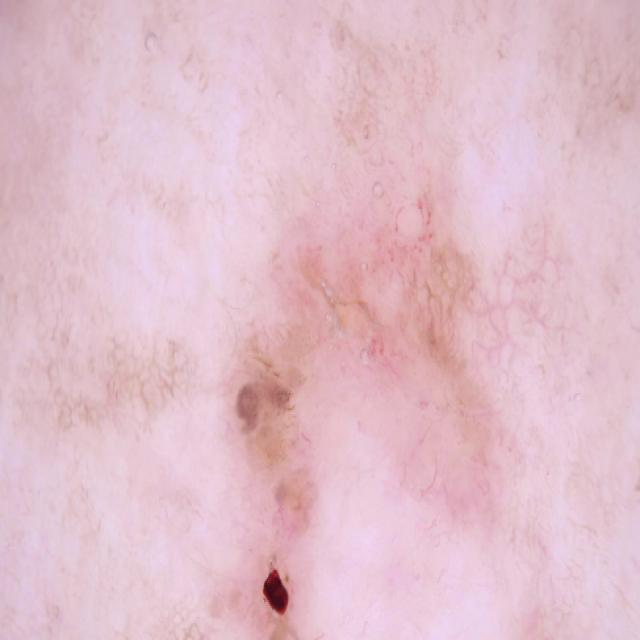Carcinoma: (146, 182, 544, 640)
